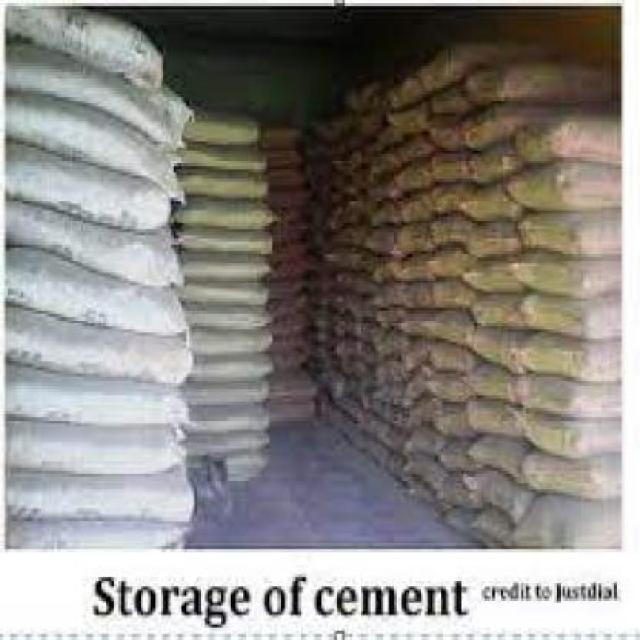gunny_bag: (3, 38, 188, 147), (1, 300, 196, 392), (6, 91, 180, 193), (9, 246, 185, 340), (4, 138, 177, 231), (4, 201, 185, 282), (4, 355, 180, 433), (8, 3, 159, 89), (6, 408, 179, 478), (0, 471, 193, 522), (5, 516, 189, 554), (507, 486, 618, 546), (516, 326, 624, 384), (512, 249, 626, 303), (518, 111, 624, 169), (521, 445, 619, 504), (518, 205, 623, 259), (463, 66, 613, 102), (507, 160, 621, 205), (517, 292, 623, 339), (523, 408, 619, 458), (510, 375, 622, 417), (171, 198, 282, 232), (468, 471, 532, 529), (183, 273, 271, 311), (464, 174, 529, 223), (469, 433, 529, 486), (189, 325, 273, 362), (179, 166, 267, 199), (189, 350, 275, 383), (466, 397, 530, 441), (183, 402, 273, 433), (184, 111, 253, 151), (185, 253, 272, 284), (179, 231, 275, 259), (181, 146, 262, 179), (460, 362, 525, 403), (463, 259, 531, 296), (418, 307, 478, 348), (466, 135, 516, 182), (472, 323, 522, 370), (184, 378, 271, 405), (464, 292, 529, 328), (183, 306, 272, 331), (180, 431, 267, 456), (461, 108, 517, 144), (466, 224, 522, 257), (421, 55, 466, 96), (440, 474, 490, 510), (400, 453, 446, 491), (393, 248, 440, 284), (369, 417, 407, 460), (428, 249, 477, 282), (380, 71, 421, 110), (422, 82, 468, 115), (434, 177, 468, 220), (425, 373, 473, 403), (390, 370, 430, 406), (389, 135, 430, 169), (431, 344, 479, 373), (434, 215, 479, 245), (435, 441, 483, 469), (385, 408, 428, 439), (437, 402, 470, 441), (473, 508, 513, 540), (406, 425, 447, 456), (393, 160, 429, 195), (393, 226, 433, 257), (430, 279, 479, 304), (391, 193, 430, 224), (393, 307, 433, 336), (398, 279, 435, 309), (435, 113, 465, 149), (437, 152, 468, 184), (389, 107, 425, 133), (398, 340, 430, 369)
